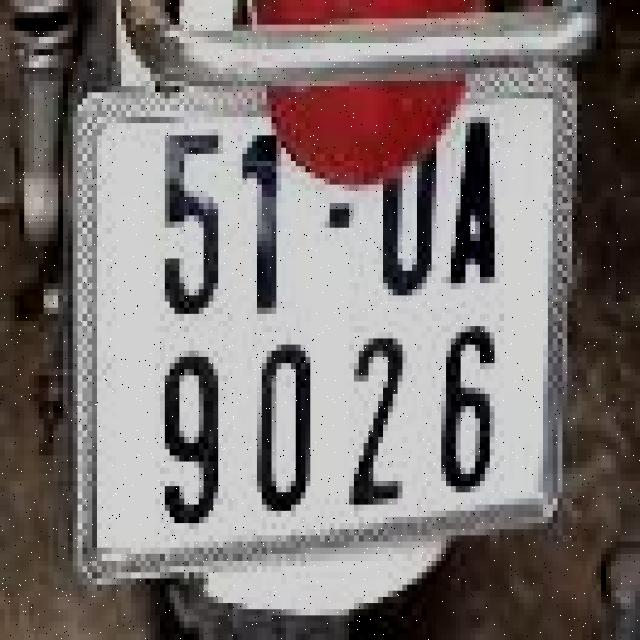0: (250, 335, 318, 520)
1: (237, 123, 291, 320)
2: (346, 329, 409, 514)
5: (155, 120, 228, 329)
6: (436, 317, 499, 495)
9: (157, 345, 225, 529)
A: (448, 104, 502, 296)
D: (378, 110, 441, 308)
